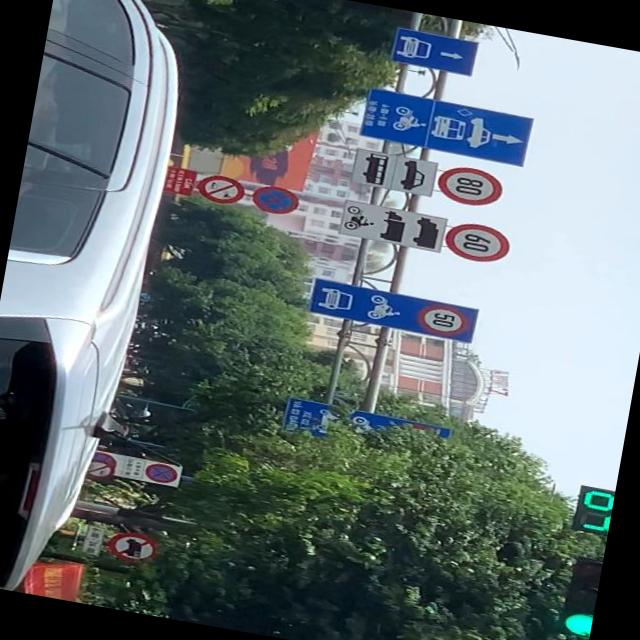P-104: (194, 169, 245, 209)
P-127: (441, 218, 512, 267), (433, 162, 502, 208)
P-130: (248, 180, 300, 217)
